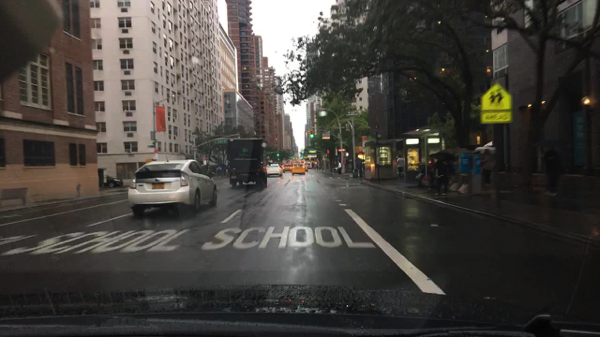car: (127, 160, 217, 216), (105, 176, 124, 188), (267, 163, 283, 177), (283, 164, 293, 172), (306, 162, 312, 169), (304, 165, 309, 171)
person: (539, 138, 564, 197), (430, 152, 457, 196), (476, 146, 496, 188), (396, 154, 405, 179), (353, 156, 361, 178), (335, 161, 342, 173)
traffic light: (354, 147, 362, 153), (310, 130, 313, 138), (276, 153, 279, 160), (307, 131, 309, 137)
traffic sign: (481, 83, 514, 113), (479, 109, 510, 124), (154, 105, 167, 132), (459, 153, 470, 173), (472, 154, 481, 175), (213, 139, 228, 144), (322, 132, 330, 140), (308, 150, 316, 154), (147, 145, 156, 148), (313, 130, 316, 137)
truck: (226, 137, 266, 189)
